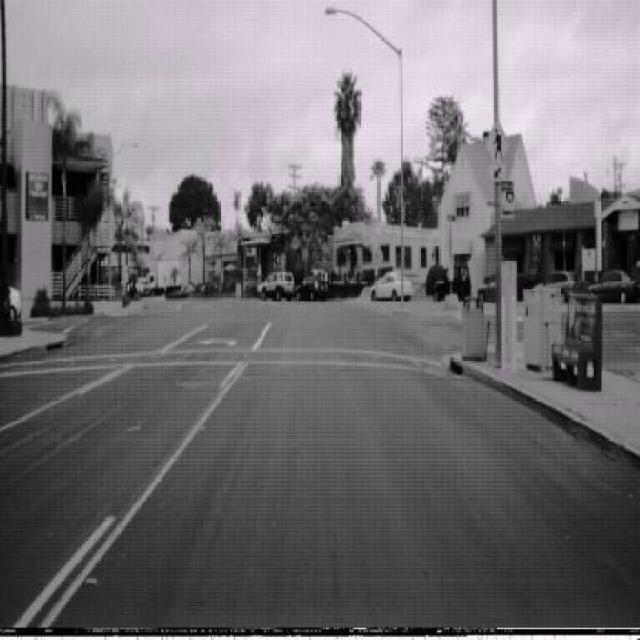pedestrianCrossing: (483, 117, 511, 171)
